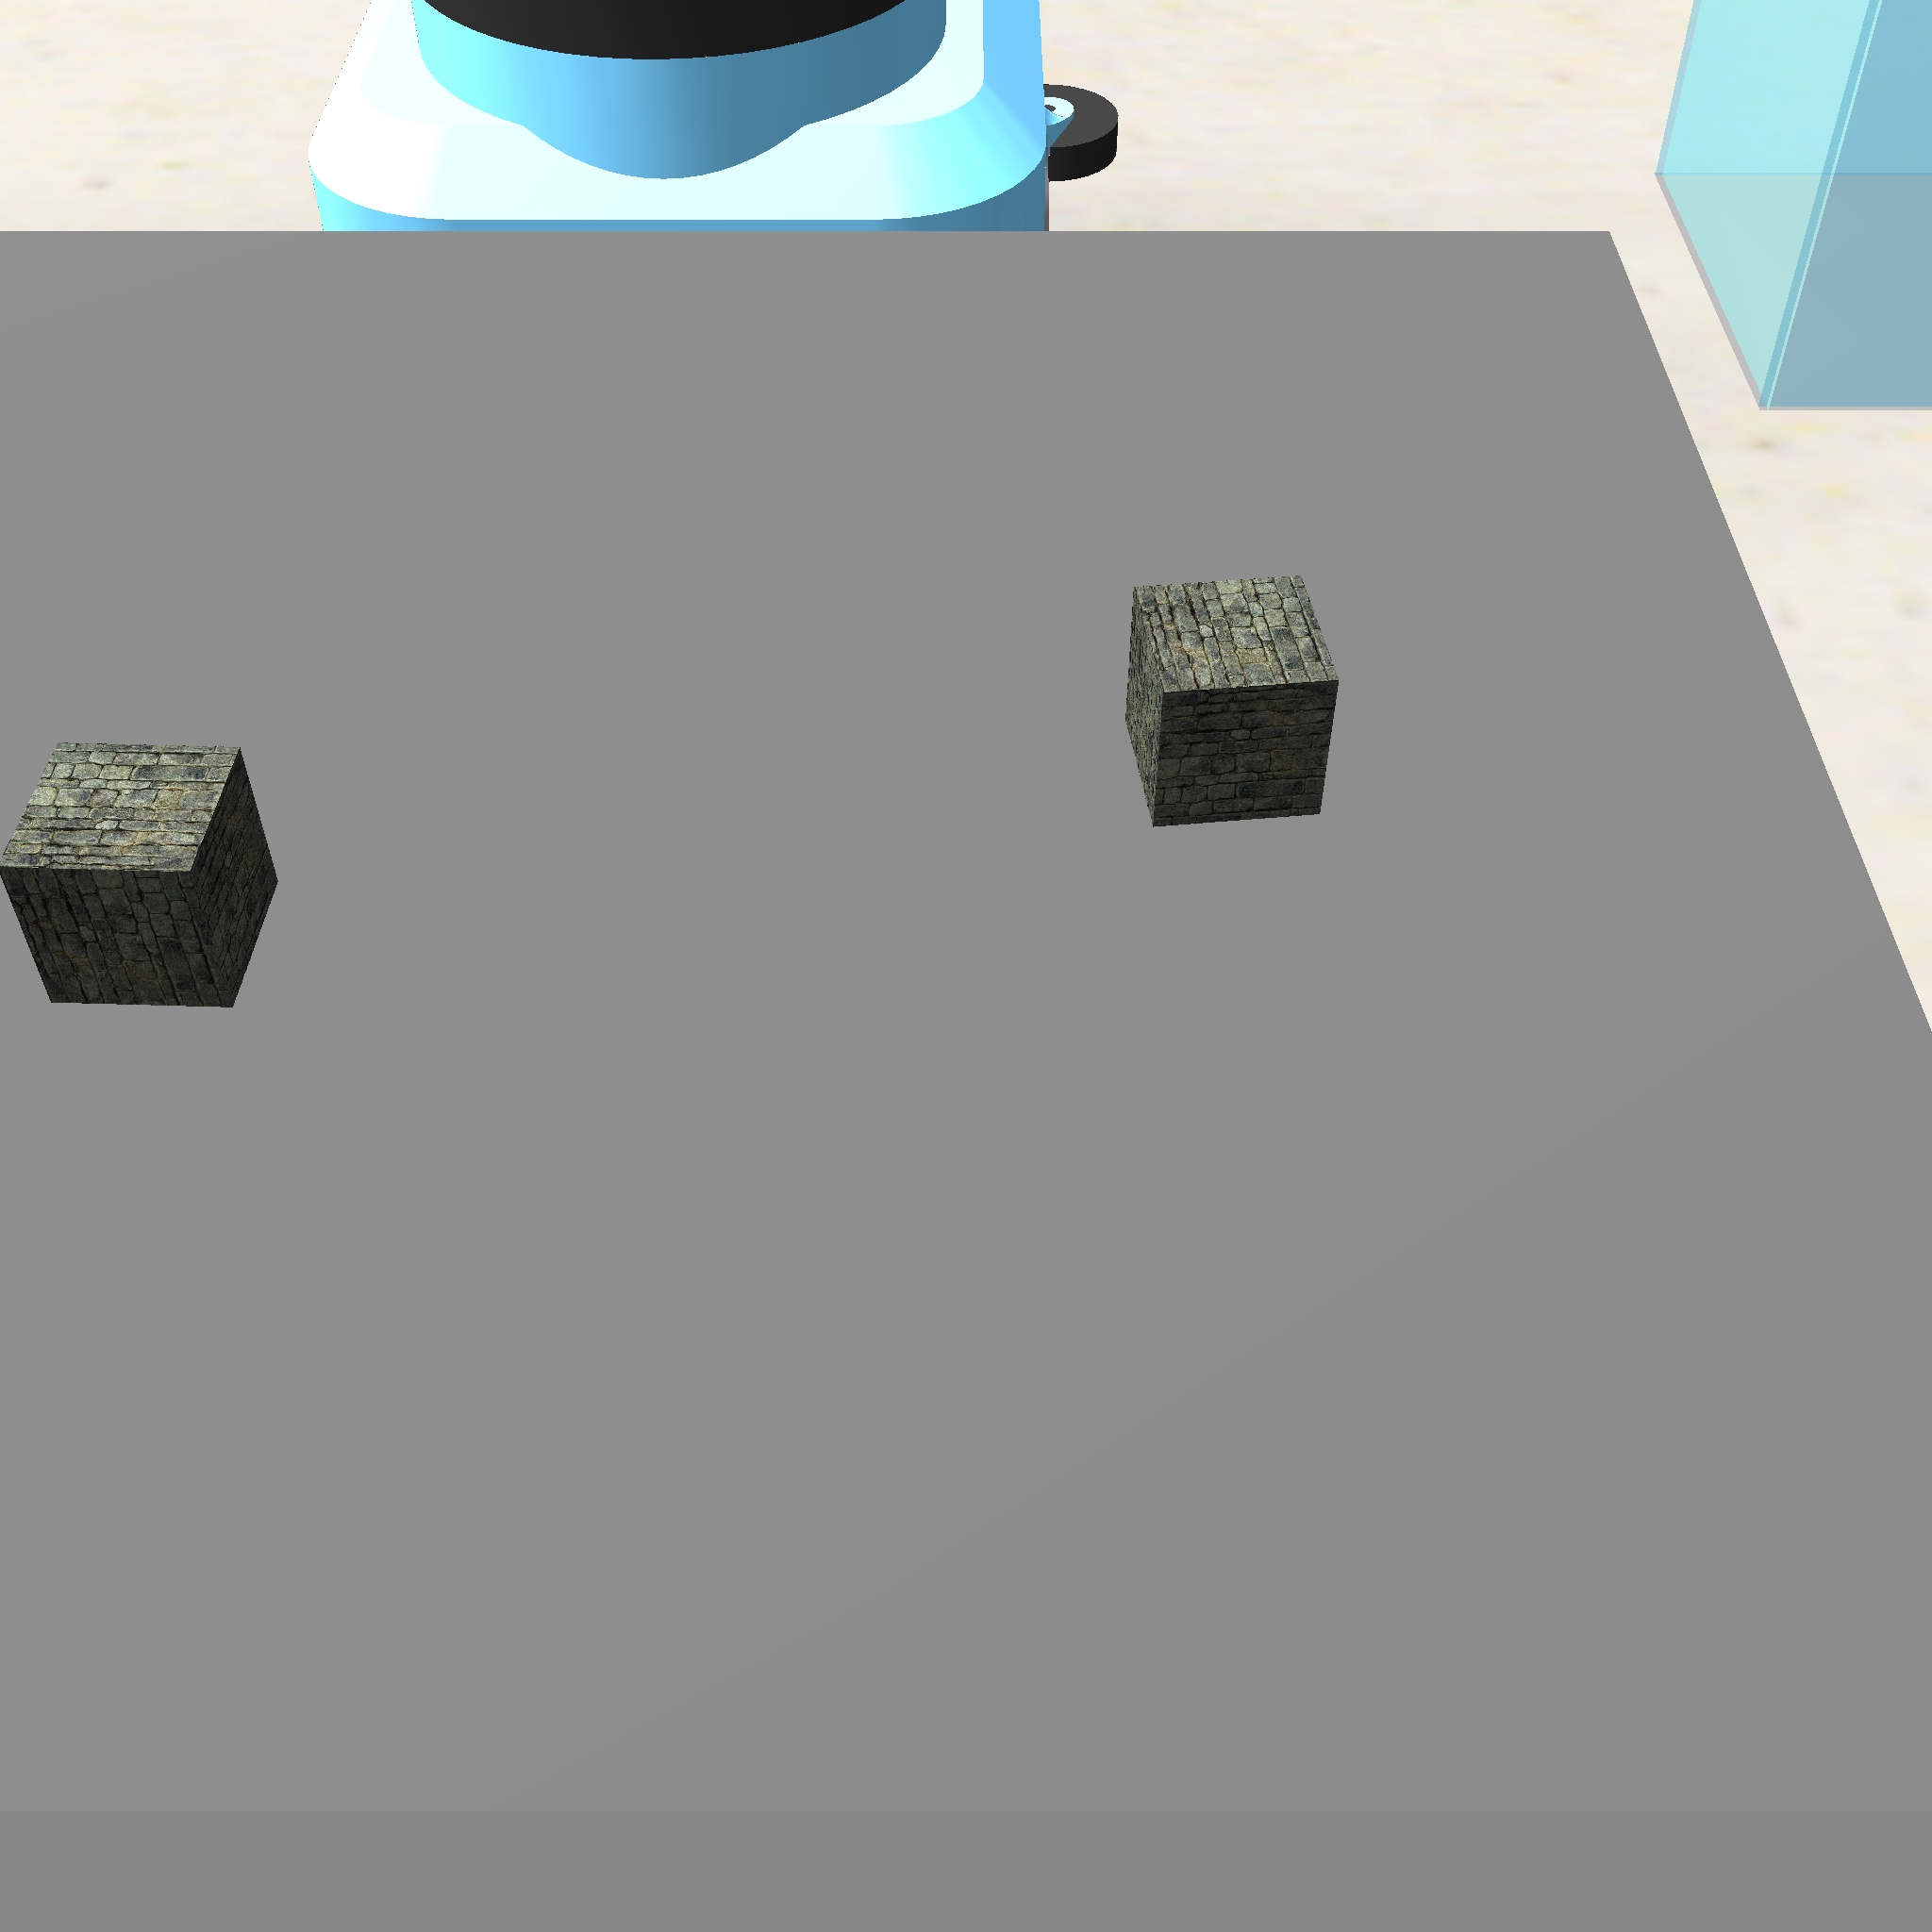cube: (0, 731, 288, 1017), (1113, 566, 1350, 835)
